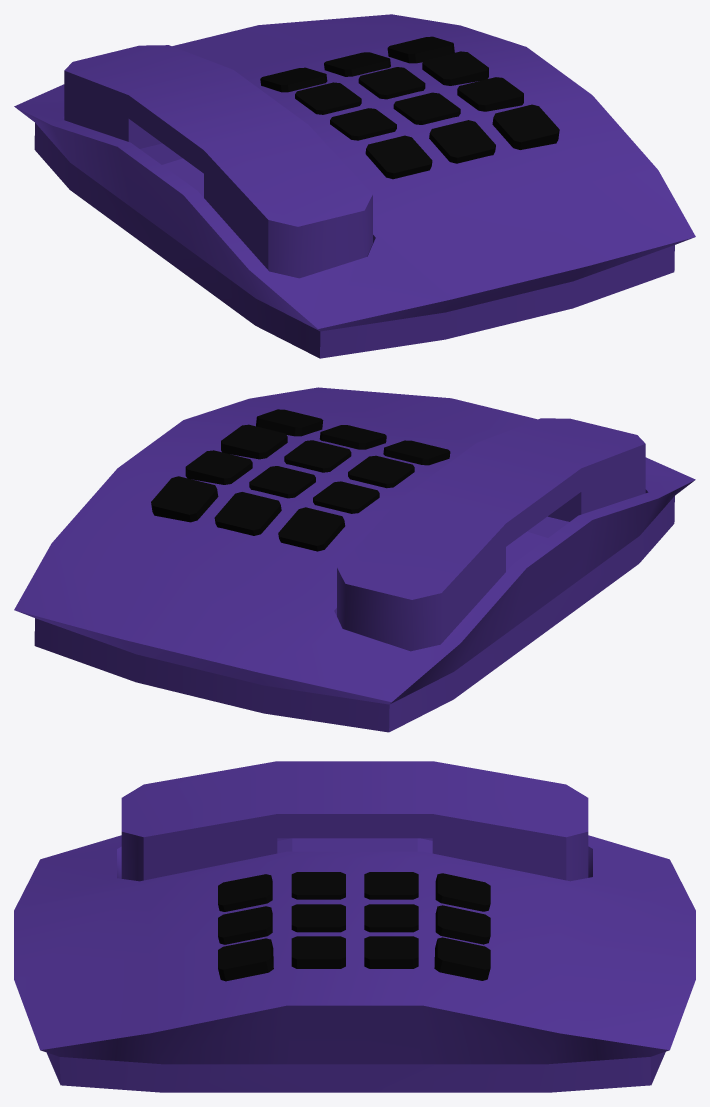
File: telephone.fbx
3 views of the same model, one above another, from view 1: azimuth 30°, elevation 25°; view 2: azimuth 150°, elevation 25°; view 3: azimuth 270°, elevation 25° (orthographic). The views are drawn at different scales.
Visible parts, largest first — view 1: telephone; view 2: telephone; view 3: telephone.
Part boxes in pixels (x1=…): telephone: x1=14, y1=14, x2=695, y2=358; telephone: x1=14, y1=387, x2=695, y2=732; telephone: x1=14, y1=761, x2=695, y2=1092.
Bounding box in the file's own units: 15.94 × 5.01 × 22.22.
